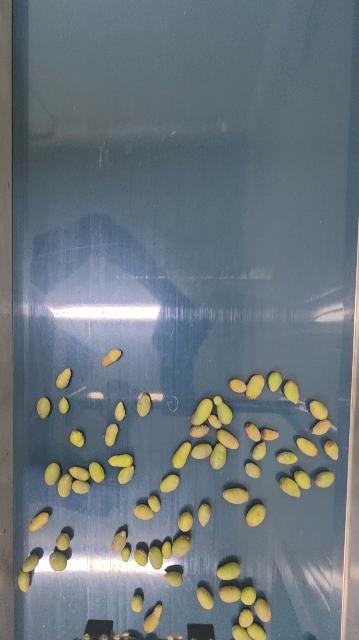Baby Potato: (191, 396, 214, 427), (213, 396, 234, 427), (143, 603, 164, 633), (278, 474, 303, 499), (222, 485, 251, 506), (216, 427, 241, 451), (245, 373, 266, 401), (209, 442, 230, 470), (172, 440, 192, 469), (245, 502, 267, 527), (216, 560, 242, 581), (296, 435, 319, 458), (254, 596, 273, 623), (218, 583, 243, 603), (196, 586, 215, 611), (29, 510, 50, 532), (147, 544, 164, 571), (172, 534, 191, 558), (283, 379, 301, 404), (309, 398, 329, 420), (293, 468, 312, 491), (190, 441, 214, 459), (44, 462, 61, 487), (48, 550, 67, 572), (314, 470, 336, 489), (136, 392, 152, 417), (160, 473, 180, 493), (101, 348, 122, 367), (246, 621, 267, 640), (230, 622, 252, 640), (240, 584, 257, 607), (55, 367, 72, 390), (89, 461, 106, 484), (104, 422, 119, 448), (108, 453, 134, 468), (57, 473, 73, 497), (22, 553, 41, 573), (311, 418, 332, 436), (267, 370, 283, 393), (36, 396, 52, 419), (276, 450, 299, 466), (197, 502, 212, 526), (238, 607, 255, 628), (245, 421, 262, 442), (324, 439, 341, 460), (252, 440, 269, 461), (68, 465, 90, 481), (178, 510, 194, 532), (244, 461, 263, 479), (164, 569, 183, 587), (134, 503, 154, 520), (112, 530, 127, 552), (117, 466, 135, 484), (189, 424, 212, 438), (17, 570, 31, 593), (261, 426, 281, 442), (228, 377, 247, 393), (69, 429, 85, 448), (56, 532, 71, 551), (72, 479, 90, 494), (134, 547, 147, 567), (147, 494, 161, 512), (114, 401, 126, 422), (161, 539, 173, 559), (131, 594, 144, 612), (207, 413, 221, 429), (57, 397, 69, 414), (120, 546, 131, 562)
